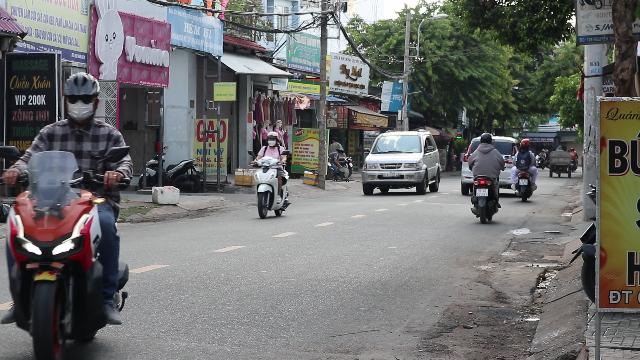helmet: (60, 71, 102, 124), (266, 131, 278, 146), (479, 132, 493, 144)
motorcyclist: (1, 69, 139, 357), (249, 131, 291, 219), (467, 132, 505, 222)
